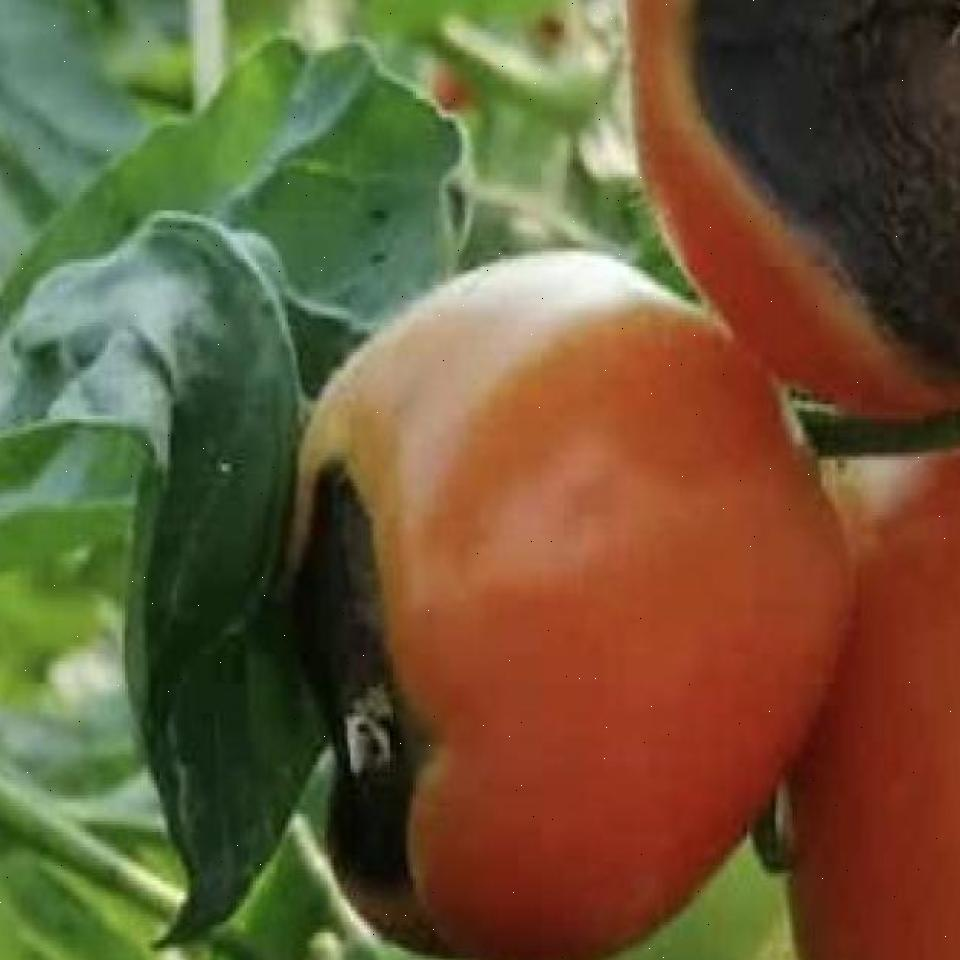Blossom_end_rot: (279, 425, 446, 960)
